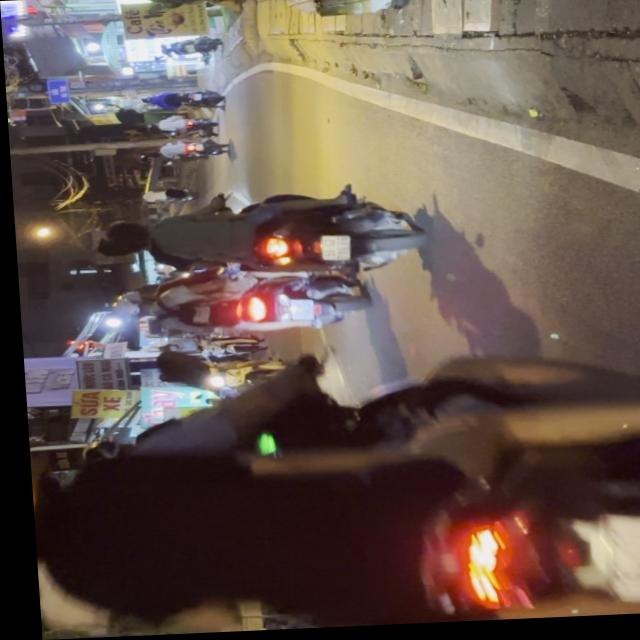helmet: (106, 296, 158, 323)
licenseplate: (18, 328, 640, 640), (82, 186, 429, 285), (95, 268, 367, 342)
motorcyclist: (102, 221, 158, 247), (91, 236, 146, 260)
nohelmet: (577, 519, 640, 612), (315, 237, 346, 264), (279, 301, 309, 325)
